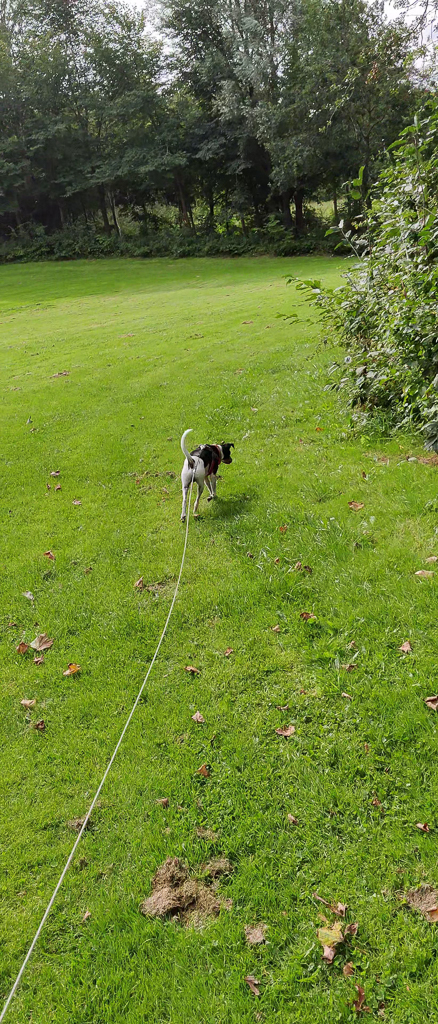Dog: (166, 422, 247, 532)
